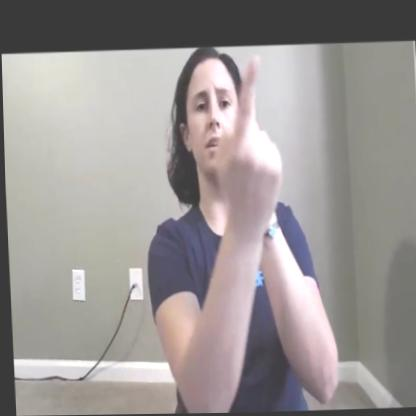NiceToMeetYou: (145, 45, 303, 257)
